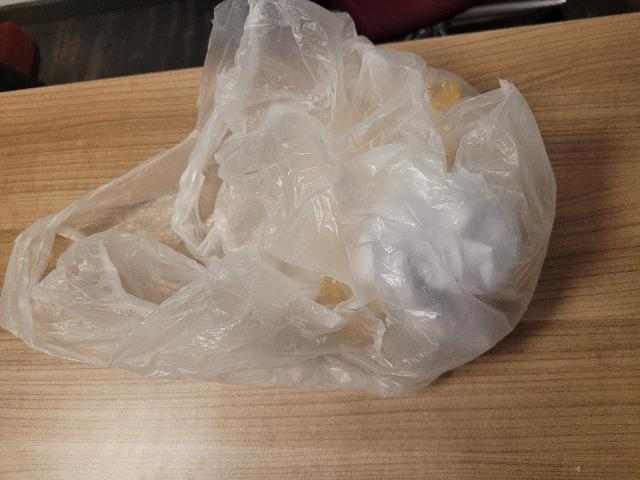Plastik: (0, 4, 560, 396)
